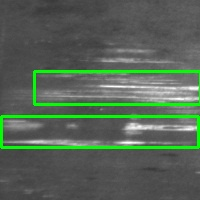scratches: (1, 116, 198, 147), (34, 71, 200, 104), (88, 42, 178, 66)
